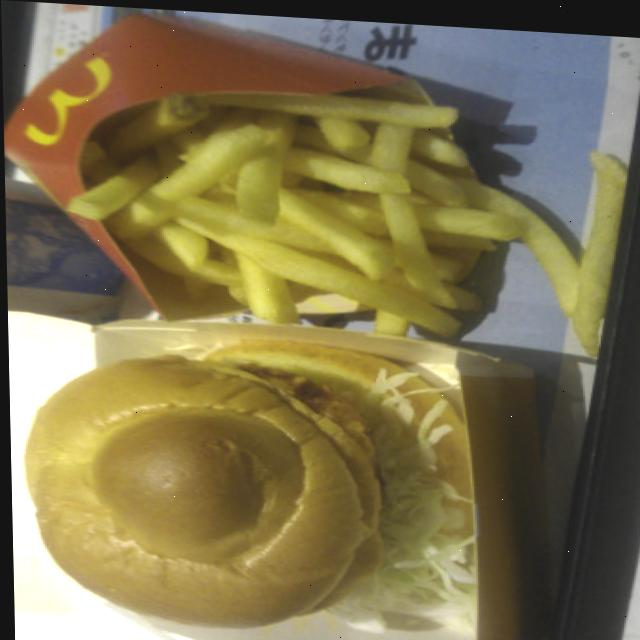汉堡快餐: (7, 304, 510, 640)
炸货点心: (0, 0, 505, 349)
